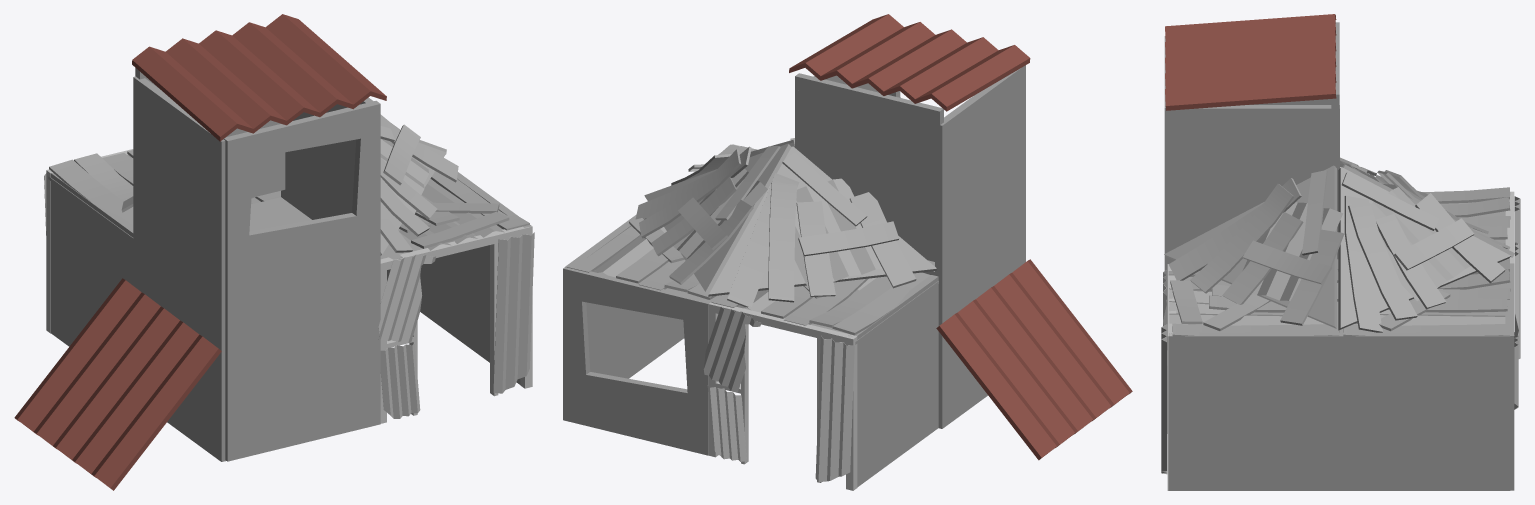
File: Environment_OpenHouse_05.fbx
3 renders of one model, left to right at view 1: azimuth 30°, elevation 25°; view 2: azimuth 150°, elevation 25°; view 3: azimuth 270°, elevation 25°, orthographic. The views are drawn at different scales.
Visible parts, largest first — view 1: Environment_Wall_018, Environment_RifledRoofSide_03, pCube3, Environment_RifledRoofSide_02, Environment_Wall_019, Environment_DoorFrame_03, Environment_Wall_017, Environment_Wall_015, Environment_WoodenShackCornerRoof_01, Environment_Wall_05, Environment_Wall_021, Environment_WoodenShackRoof_04 (+5 smaller); view 2: Environment_RifledRoofSide_03, Environment_WoodenShackCornerRoof_03, Environment_Wall_022, pCube4, Environment_Wall_019, Environment_DoorFrame_04, Environment_Wall_017, Environment_RifledRoofSide_02, Environment_WoodenShackCornerRoof_02, Environment_Wall_015, Environment_WoodenShackRoof_03, Environment_Wall_023 (+4 smaller); view 3: Environment_Wall_023, Environment_Wall_05, Environment_Wall_021, Environment_WoodenShackCornerRoof_02, Environment_WoodenShackCornerRoof_01, Environment_RifledRoofSide_02, Environment_WoodenShackRoof_04, Environment_WoodenShackRoof_02, Environment_WoodenShackRoof_03, Environment_DoorFrame_04, Environment_DoorFrame_03, Environment_WoodenShackCornerRoof_03 (+3 smaller).
Part boxes in pixels (bbox=[...]): Environment_Wall_018: bbox=[225, 264, 380, 461]; Environment_RifledRoofSide_03: bbox=[14, 278, 221, 490]; pCube3: bbox=[223, 100, 380, 301]; Environment_RifledRoofSide_02: bbox=[132, 14, 386, 141]; Environment_Wall_019: bbox=[133, 76, 225, 301]; Environment_DoorFrame_03: bbox=[378, 226, 534, 423]; Environment_Wall_017: bbox=[51, 173, 133, 346]; Environment_Wall_015: bbox=[133, 237, 225, 461]; Environment_WoodenShackCornerRoof_01: bbox=[380, 114, 458, 255]; Environment_Wall_05: bbox=[436, 172, 531, 384]; Environment_Wall_021: bbox=[281, 97, 373, 219]; Environment_WoodenShackRoof_04: bbox=[380, 171, 529, 259]; Environment_RifledRoofSide_03: bbox=[936, 259, 1132, 460]; Environment_WoodenShackCornerRoof_03: bbox=[708, 146, 936, 308]; Environment_Wall_022: bbox=[795, 73, 943, 262]; pCube4: bbox=[563, 265, 711, 455]; Environment_Wall_019: bbox=[935, 65, 1025, 277]; Environment_DoorFrame_04: bbox=[703, 301, 857, 490]; Environment_Wall_017: bbox=[848, 275, 938, 487]; Environment_RifledRoofSide_02: bbox=[789, 14, 1030, 111]; Environment_WoodenShackCornerRoof_02: bbox=[635, 143, 791, 294]; Environment_Wall_015: bbox=[938, 216, 1025, 428]; Environment_WoodenShackRoof_03: bbox=[711, 272, 938, 344]; Environment_Wall_023: bbox=[565, 216, 655, 378]; Environment_Wall_023: bbox=[1339, 332, 1510, 490]; Environment_Wall_05: bbox=[1169, 332, 1339, 490]; Environment_Wall_021: bbox=[1173, 105, 1339, 259]; Environment_WoodenShackCornerRoof_02: bbox=[1338, 167, 1510, 332]; Environment_WoodenShackCornerRoof_01: bbox=[1164, 165, 1344, 328]; Environment_RifledRoofSide_02: bbox=[1165, 14, 1336, 110]; Environment_WoodenShackRoof_04: bbox=[1168, 259, 1339, 336]; Environment_WoodenShackRoof_02: bbox=[1339, 259, 1510, 336]; Environment_WoodenShackRoof_03: bbox=[1423, 187, 1510, 259]; Environment_DoorFrame_04: bbox=[1505, 191, 1520, 409]; Environment_DoorFrame_03: bbox=[1161, 264, 1176, 490]; Environment_WoodenShackCornerRoof_03: bbox=[1340, 157, 1514, 257].
Size of the model in its own units: 566 by 438 by 421.
